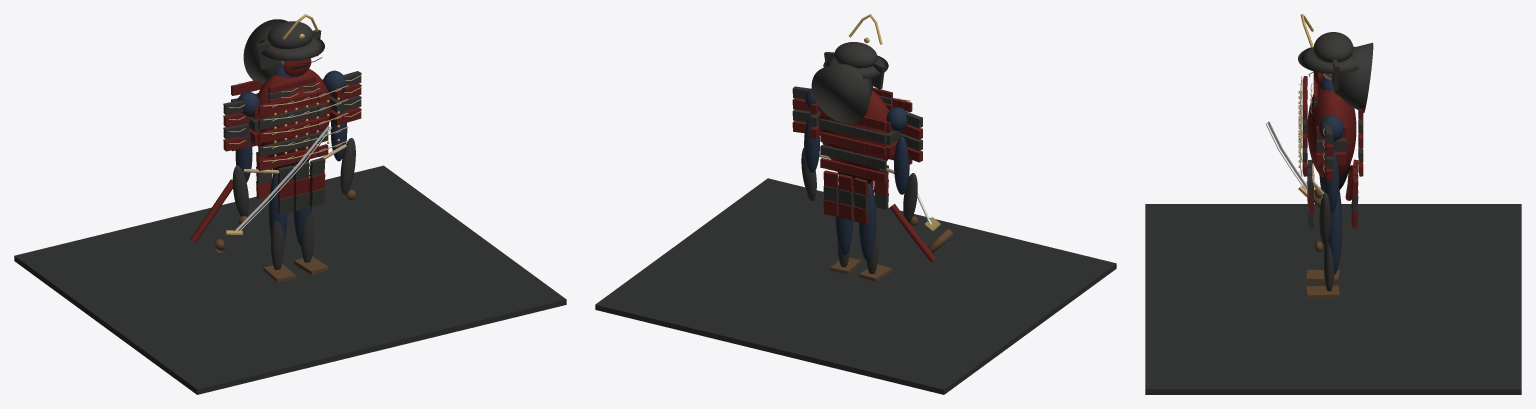
The model's file is realistic_samurai.glb.
3 views of the same model, side by side, from view 1: azimuth 30°, elevation 25°; view 2: azimuth 150°, elevation 25°; view 3: azimuth 270°, elevation 25° (orthographic). The views are drawn at different scales.
Parts seen in each view (by area): view 1: matte charcoal inspection plinth, rounded do cuirass silhouette, rear shikoro neck guard flare, segmented kabuto helmet bowl, wide kabuto brim, right kote forearm guard, left kote forearm guard, left shin greave, left hakama trouser leg, lacquered saya scabbard at left hip, right shin greave; view 2: matte charcoal inspection plinth, rear shikoro neck guard flare, rounded do cuirass silhouette, segmented kabuto helmet bowl, left hakama trouser leg, left armored upper arm, right armored upper arm, right hakama trouser leg, left kote forearm guard, lacquered saya scabbard at left hip; view 3: matte charcoal inspection plinth, rounded do cuirass silhouette, rear shikoro neck guard flare, segmented kabuto helmet bowl, wide kabuto brim, right hakama trouser leg, right armored upper arm, right kote forearm guard, right shin greave, right shoulder undercloth, right waraji sandal.
Boxes of the visible parts, x1,y1,x2,y2 form: matte charcoal inspection plinth: (14,165,566,394); rounded do cuirass silhouette: (257,68,330,158); rear shikoro neck guard flare: (243,19,287,83); segmented kabuto helmet bowl: (267,21,313,48); wide kabuto brim: (256,37,324,60); right kote forearm guard: (340,138,355,194); left kote forearm guard: (232,165,248,216); left shin greave: (271,221,284,269); left hakama trouser leg: (269,173,287,241); lacquered saya scabbard at left hip: (190,179,232,242); right shin greave: (301,212,314,262); matte charcoal inspection plinth: (595,178,1116,394); rear shikoro neck guard flare: (811,63,872,123); rounded do cuirass silhouette: (819,90,888,171); segmented kabuto helmet bowl: (834,42,877,68); left hakama trouser leg: (859,183,876,261); left armored upper arm: (894,136,909,194); right armored upper arm: (804,114,819,172); right hakama trouser leg: (835,187,852,255); left kote forearm guard: (903,173,917,222); lacquered saya scabbard at left hip: (889,204,935,261); matte charcoal inspection plinth: (1145,204,1521,394); rounded do cuirass silhouette: (1307,85,1356,177); rear shikoro neck guard flare: (1334,42,1373,112); segmented kabuto helmet bowl: (1313,32,1353,62); wide kabuto brim: (1298,46,1359,73); right hakama trouser leg: (1328,196,1341,274); right armored upper arm: (1323,150,1339,211); right kote forearm guard: (1319,192,1330,245); right shin greave: (1324,242,1334,291); right shoulder undercloth: (1319,115,1343,141); right waraji sandal: (1306,285,1339,298).
Bounding box in the file's own units: 4.2 × 3.04 × 3.6.
